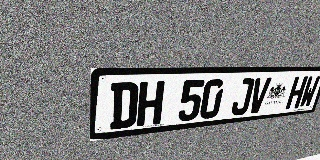0: (199, 79, 225, 120)
5: (178, 80, 205, 122)
D: (110, 82, 139, 130)
H: (136, 81, 165, 127), (285, 76, 308, 110)
J: (230, 78, 255, 116)
V: (247, 77, 272, 114)
W: (298, 76, 320, 108)
